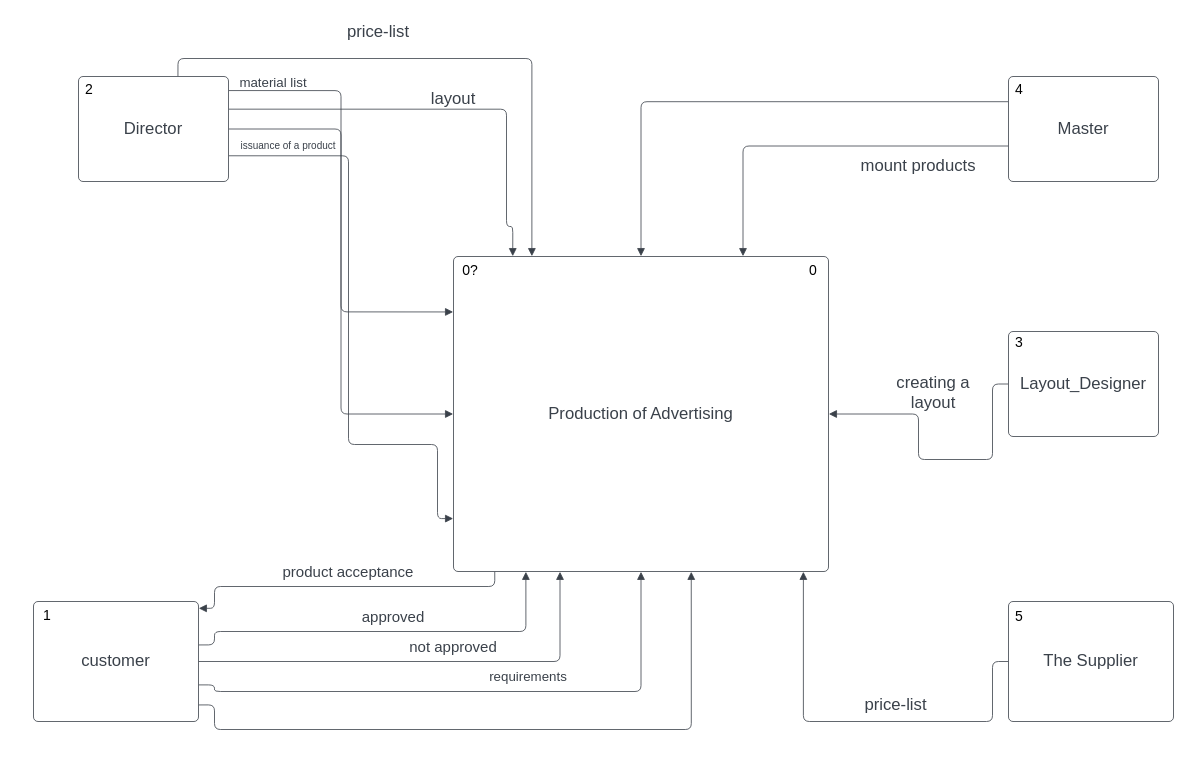
This 1191x757 diagram has some shape labels left out. Here are the shapes that lost their labels. From the top down, the centre of each, then its label:
At pixel 850 86: "product manufacturing".
At pixel 303 123: "instructions for the master".
At pixel 513 715: "the need to install the product".
